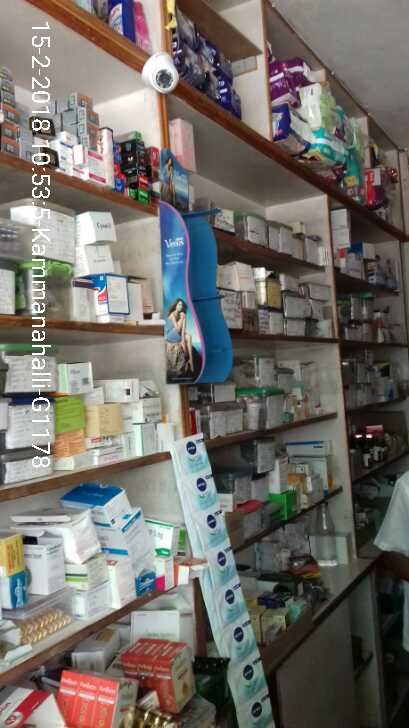reject: (106, 230, 218, 310)
